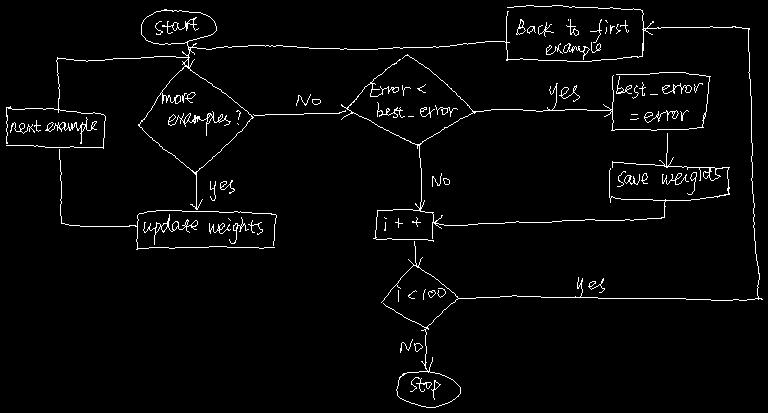arrow: (458, 21, 762, 300), (56, 51, 189, 112), (432, 199, 665, 228), (59, 149, 137, 226), (189, 41, 509, 54), (474, 104, 612, 116), (253, 104, 352, 119), (415, 144, 424, 211), (421, 327, 432, 372), (659, 133, 673, 167), (190, 172, 202, 209), (408, 241, 422, 267), (182, 41, 194, 68)
decision: (138, 65, 253, 174), (347, 54, 475, 145), (381, 265, 459, 330)
process: (506, 5, 643, 61), (611, 72, 710, 130), (136, 210, 276, 249), (609, 161, 729, 202), (6, 106, 105, 148), (373, 209, 433, 241)
terminator: (141, 9, 216, 44), (396, 371, 460, 407)
text: (516, 19, 628, 59), (616, 76, 702, 122), (143, 214, 262, 244), (162, 92, 240, 135), (370, 82, 457, 117), (617, 167, 720, 194), (10, 117, 96, 143), (547, 83, 579, 110), (397, 285, 445, 301), (155, 17, 198, 34), (410, 377, 440, 399), (575, 277, 604, 297), (210, 180, 234, 200), (384, 217, 420, 230), (400, 339, 422, 352), (296, 94, 320, 105), (432, 173, 449, 186)
